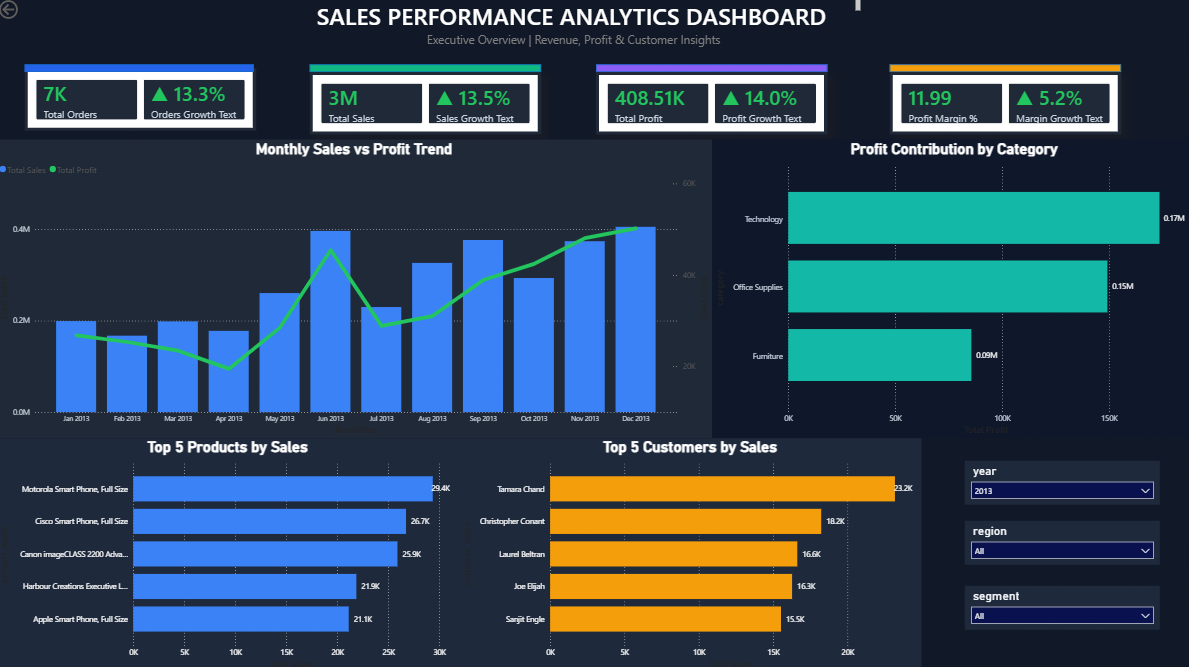

Layout of this report page (visuals, bound fields, positions):
{"tool":"powerbi","page":{"name":"Page 1","canvas":[1920,1080],"ordinal":0},"visuals":[{"type":"textbox","box":[460.6,0,927.9,50.2],"z":0},{"type":"textbox","box":[574.5,50.2,700.1,48.6],"z":1000},{"type":"cardVisual","fields":{"Data":["SuperStoreOrders_PowerBI.Total Orders","SuperStoreOrders_PowerBI.Orders Growth Text"]},"box":[44,120,370,100],"z":2000},{"type":"cardVisual","fields":{"Data":["SuperStoreOrders_PowerBI.Profit Margin %","SuperStoreOrders_PowerBI.Margin Growth Text"]},"box":[1430,120,370,100],"z":3000},{"type":"cardVisual","fields":{"Data":["SuperStoreOrders_PowerBI.Total Profit","SuperStoreOrders_PowerBI.Profit Growth Text"]},"box":[960,120,370,100],"z":4000},{"type":"cardVisual","fields":{"Data":["SuperStoreOrders_PowerBI.Total Sales","SuperStoreOrders_PowerBI.Sales Growth Text"]},"box":[502,120,370,100],"z":5000},{"type":"shape","box":[46,108,366,12],"z":6000},{"type":"shape","box":[502,108,370,12],"z":7000},{"type":"shape","box":[960,108,370,12],"z":8000},{"type":"shape","box":[1430,108,370,12],"z":9000},{"type":"lineClusteredColumnComboChart","title":"Monthly Sales vs Profit Trend","fields":{"Category":["SuperStoreOrders_PowerBI.MonthYear"],"Y":["SuperStoreOrders_PowerBI.Total Sales"],"Y2":["SuperStoreOrders_PowerBI.Total Profit"]},"box":[0,228.5,1145.9,477.9],"z":9001},{"type":"clusteredBarChart","title":"Profit Contribution by Category","fields":{"Category":["SuperStoreOrders_PowerBI.category"],"Y":["SuperStoreOrders_PowerBI.Total Profit"]},"box":[1145.9,228.5,774.4,477.9],"z":9002},{"type":"clusteredBarChart","title":"Top 5 Products by Sales","fields":{"Category":["SuperStoreOrders_PowerBI.product_name"],"Y":["SuperStoreOrders_PowerBI.Total Sales"]},"box":[0,706,741,374.6],"z":9003},{"type":"clusteredBarChart","title":"Top 5 Customers by Sales","fields":{"Y":["SuperStoreOrders_PowerBI.Total Sales"],"Category":["SuperStoreOrders_PowerBI.customer_name"]},"box":[741,706,741,374.6],"z":9004},{"type":"slicer","fields":{"Values":["SuperStoreOrders_PowerBI.year"]},"box":[1550,742,312,70],"z":9005},{"type":"slicer","fields":{"Values":["SuperStoreOrders_PowerBI.region"]},"box":[1550,838,312,70],"z":9006},{"type":"slicer","fields":{"Values":["SuperStoreOrders_PowerBI.segment"]},"box":[1550,942,312,70],"z":9007},{"type":"actionButton","box":[0,0,100,40],"z":9009}]}

Visuals, with their boxes in screenshot pixels (x1, y1, x2, y2), scaled from the page's 1920x1080 canvas onto the 1189x667 screenshot:
textbox: 285/0/860/31
textbox: 356/31/789/61
cardVisual - SuperStoreOrders_PowerBI.Total Orders x SuperStoreOrders_PowerBI.Orders Growth Text: 27/74/256/136
cardVisual - SuperStoreOrders_PowerBI.Profit Margin % x SuperStoreOrders_PowerBI.Margin Growth Text: 886/74/1115/136
cardVisual - SuperStoreOrders_PowerBI.Total Profit x SuperStoreOrders_PowerBI.Profit Growth Text: 594/74/824/136
cardVisual - SuperStoreOrders_PowerBI.Total Sales x SuperStoreOrders_PowerBI.Sales Growth Text: 311/74/540/136
shape: 28/67/255/74
shape: 311/67/540/74
shape: 594/67/824/74
shape: 886/67/1115/74
"Monthly Sales vs Profit Trend" lineClusteredColumnComboChart: 0/141/710/436
"Profit Contribution by Category" clusteredBarChart: 710/141/1188/436
"Top 5 Products by Sales" clusteredBarChart: 0/436/459/666
"Top 5 Customers by Sales" clusteredBarChart: 459/436/918/666
slicer - SuperStoreOrders_PowerBI.year: 960/458/1153/501
slicer - SuperStoreOrders_PowerBI.region: 960/518/1153/561
slicer - SuperStoreOrders_PowerBI.segment: 960/582/1153/625
actionButton: 0/0/62/25
